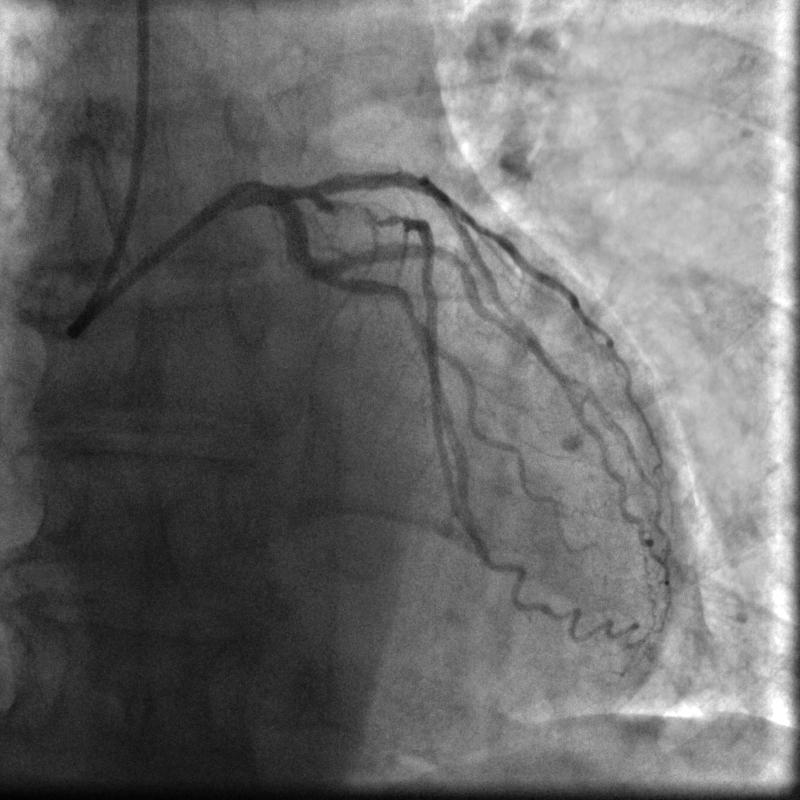Stenosis: (328, 190, 394, 232)
